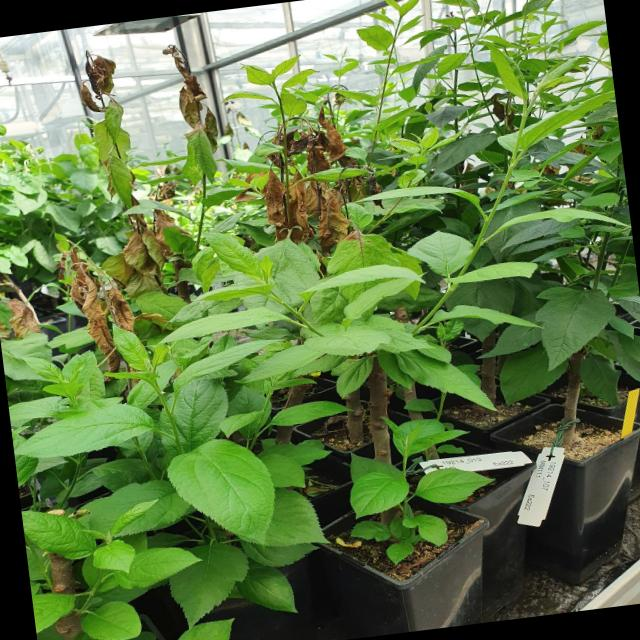-FireBlight-: (260, 100, 381, 249), (53, 245, 138, 372), (95, 204, 194, 294), (161, 43, 222, 153), (0, 265, 43, 341), (78, 53, 120, 110)
